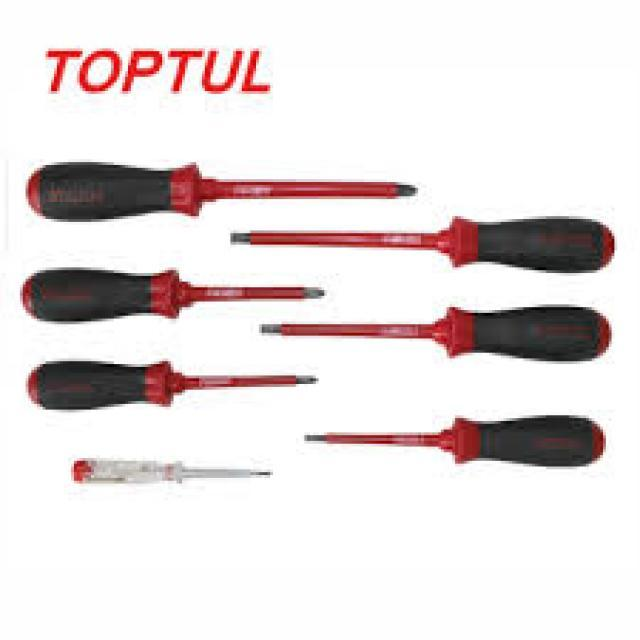screwdriver: (21, 158, 431, 226), (226, 214, 619, 280), (250, 298, 614, 364), (20, 262, 327, 331), (298, 414, 608, 474), (20, 357, 327, 414), (57, 446, 279, 484)
